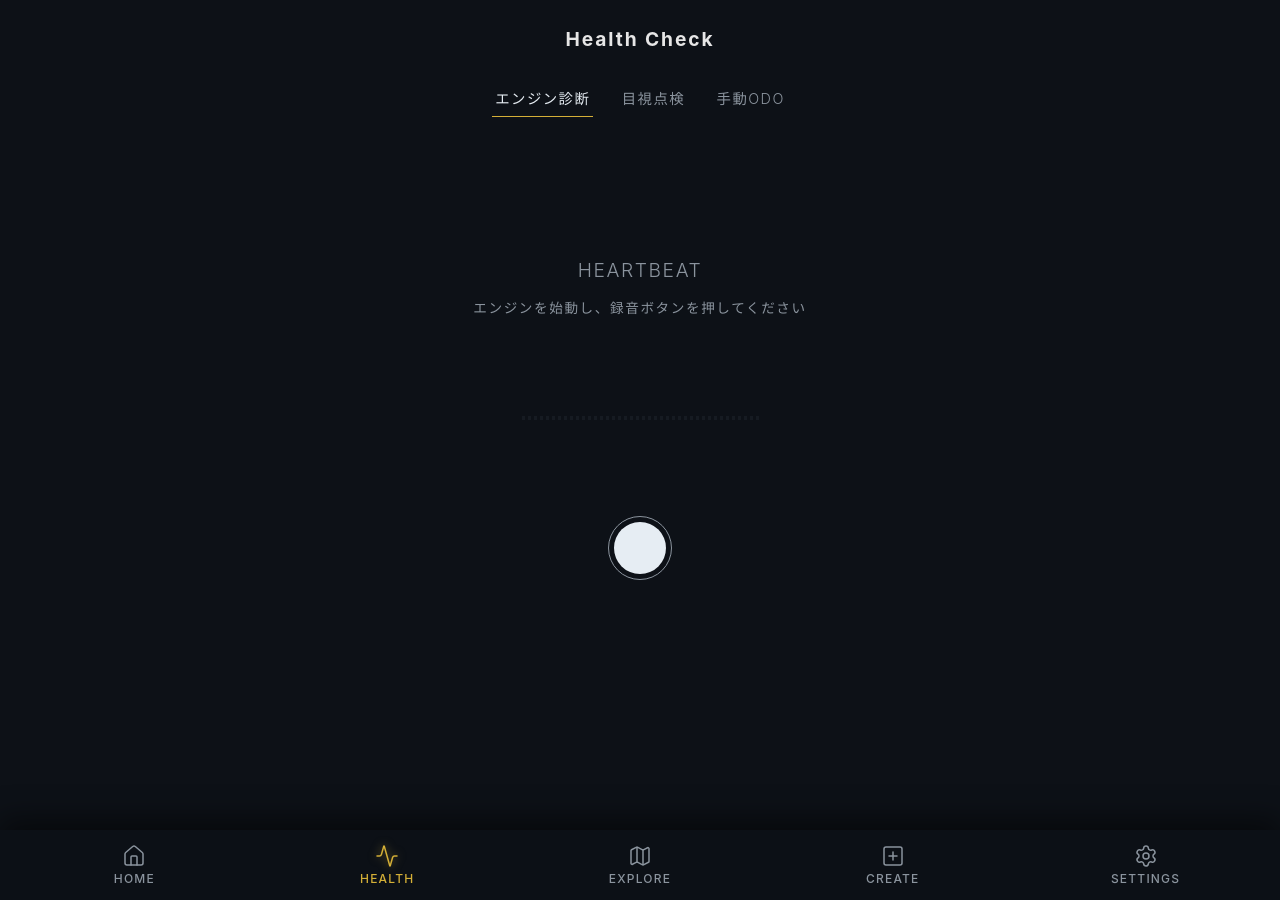
Test: HealthPage › HP-UT-021 手動ODO画面表示: 前回オイル交換時の走行距離を表示する
Click the button "手動ODO" at (751, 98), box [713,79,788,117]
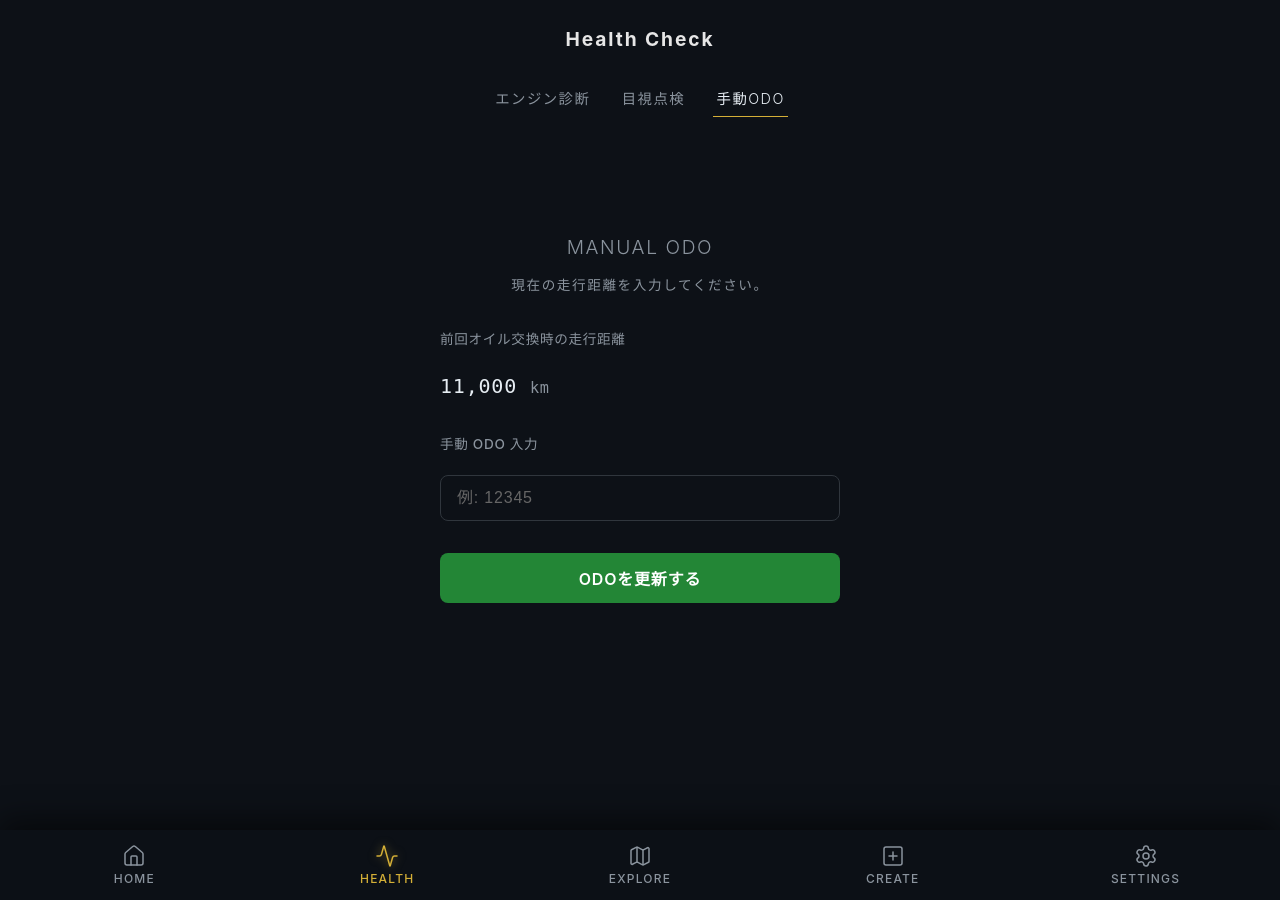
expect the text "前回オイル交換時の走行距離" is shown: met, box [440,331,626,347]
expect the text "11,000 km" is shown: met, box [440,374,550,398]
